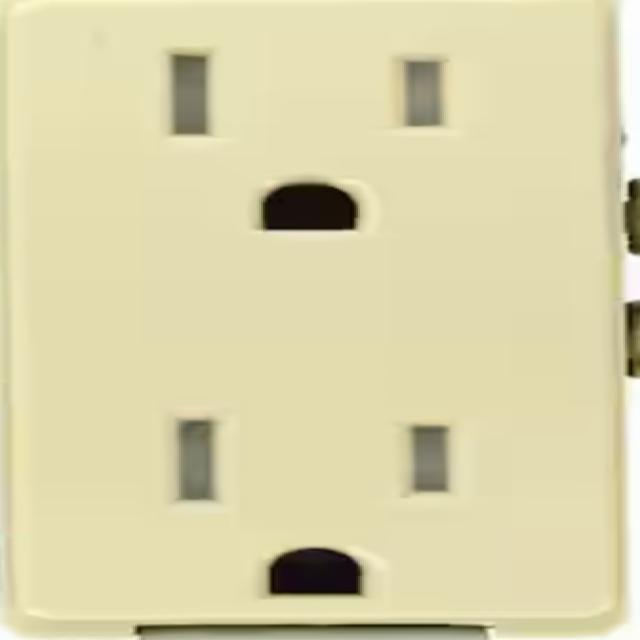type_b: (11, 4, 618, 621), (11, 4, 621, 264), (15, 370, 613, 620)
